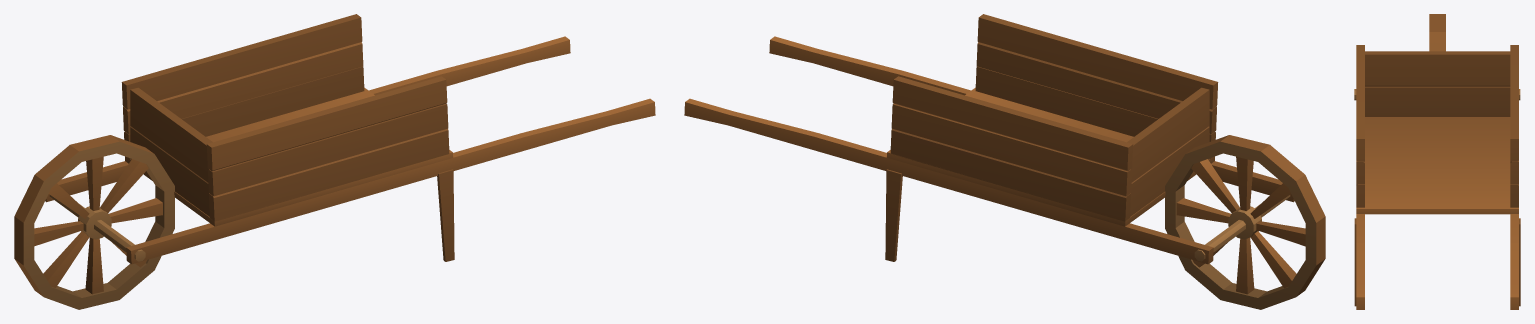
The model's file is Tool_Wheelbarrow_01.obj.
3 views of the same model, side by side, from view 1: azimuth 30°, elevation 25°; view 2: azimuth 150°, elevation 25°; view 3: azimuth 270°, elevation 25° (orthographic). The views are drawn at different scales.
Visible parts, largest first — view 1: Tool_Wheelbarrow_01, Tool_Wheelbarrow_Wheel_01; view 2: Tool_Wheelbarrow_01, Tool_Wheelbarrow_Wheel_01; view 3: Tool_Wheelbarrow_01, Tool_Wheelbarrow_Wheel_01.
Boxes of the visible parts, x1,y1,x2,y2 form: Tool_Wheelbarrow_01: (45,14,655,264); Tool_Wheelbarrow_Wheel_01: (14,135,174,309); Tool_Wheelbarrow_01: (684,14,1294,264); Tool_Wheelbarrow_Wheel_01: (1165,135,1325,309); Tool_Wheelbarrow_01: (1354,45,1520,309); Tool_Wheelbarrow_Wheel_01: (1429,14,1445,51).
Size of the model in its own units: 2.35 by 0.689 by 0.6328.
Materials: 1 (1 with a texture image).
